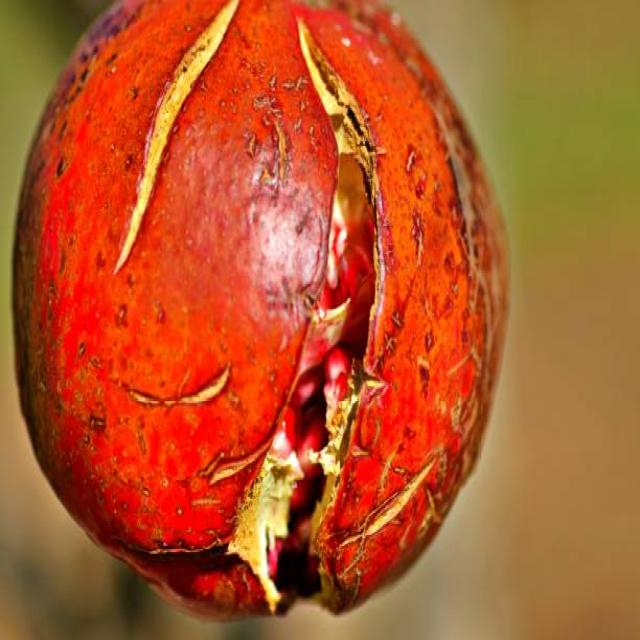overripe: (8, 1, 508, 640)
